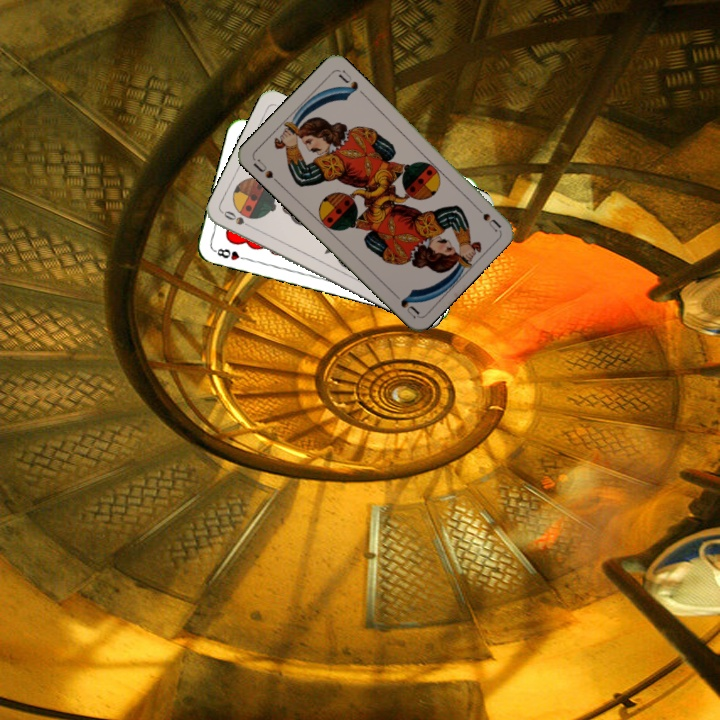H8: (210, 244, 250, 263)
SO: (219, 207, 257, 231)
SU: (469, 200, 504, 234), (249, 155, 282, 187)
